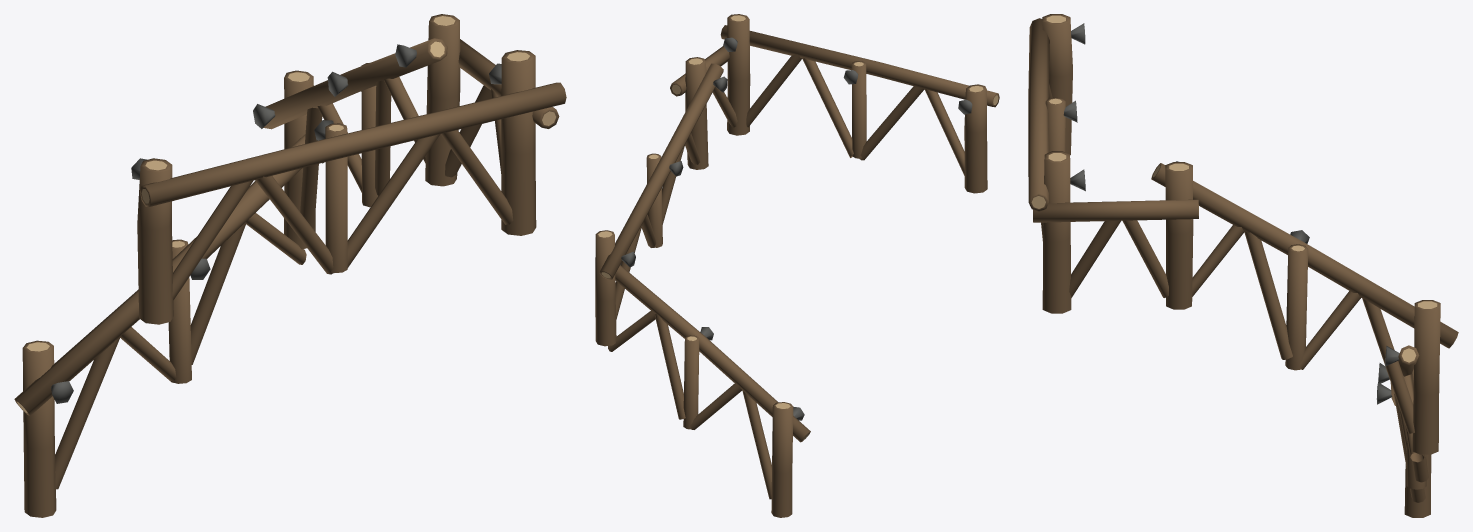
File: rpgpp_ag_stairs_interior_02b_4m_handrail_02.fbx
3 views of the same model, side by side, from view 1: azimuth 30°, elevation 25°; view 2: azimuth 150°, elevation 25°; view 3: azimuth 270°, elevation 25° (orthographic). The views are drawn at different scales.
Visible parts, largest first — view 1: rpgpp_ag_stairs_interior_02b_4m_handrail_02; view 2: rpgpp_ag_stairs_interior_02b_4m_handrail_02; view 3: rpgpp_ag_stairs_interior_02b_4m_handrail_02.
Part boxes in pixels (x1,y1,x2,y2): rpgpp_ag_stairs_interior_02b_4m_handrail_02: [14, 14, 566, 517]; rpgpp_ag_stairs_interior_02b_4m_handrail_02: [595, 14, 999, 517]; rpgpp_ag_stairs_interior_02b_4m_handrail_02: [1028, 14, 1458, 517].
Size of the model in its own units: 4.4 by 5.46 by 4.52.
